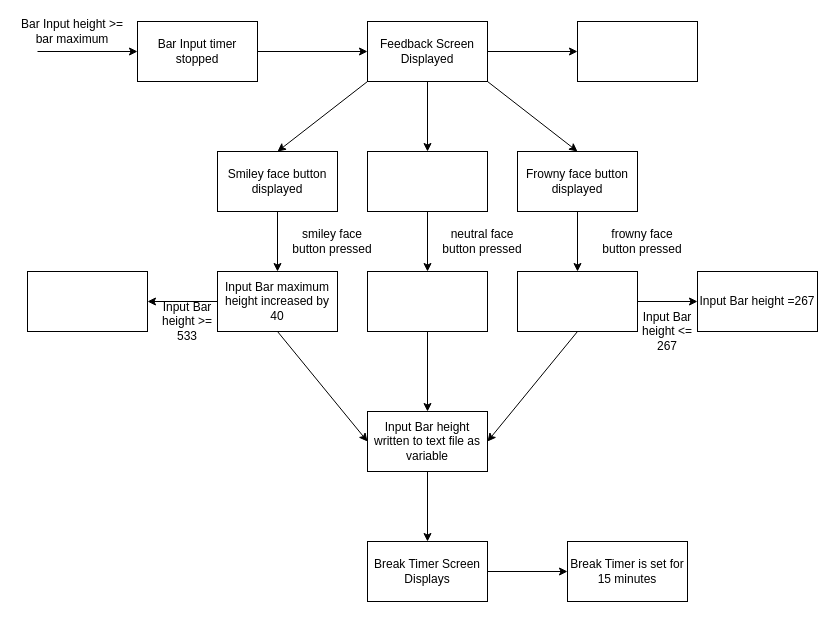
Some shapes in this 835 by 619 pixel diagram are drawn without their labels. Each missing label, with the centre of its shape:
"break warning and button text displayed" belongs at [637,51].
"Input Bar height = 533" belongs at [87,301].
"Input Bar maximum height unchanged" belongs at [427,301].
"Input Bar minimum height decreased by 40" belongs at [577,301].
"Neutral face button displayed" belongs at [427,181].
